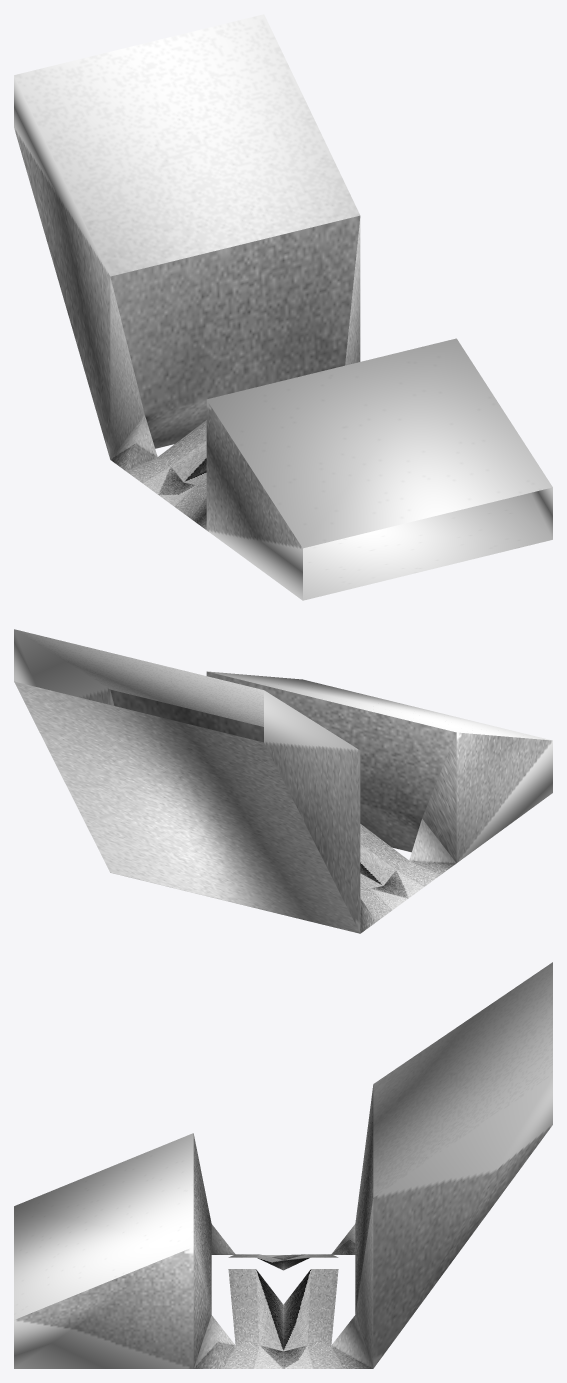
The model's file is Mod2D_SlopedPit_01.fbx.
The picture shows the model from 3 angles, top to bottom: view 1: azimuth 30°, elevation 25°; view 2: azimuth 150°, elevation 25°; view 3: azimuth 270°, elevation 25°; orthographic projection. The views are drawn at different scales.
Parts seen in each view (by area): view 1: Cube_015; view 2: Cube_015; view 3: Cube_015.
Boxes of the visible parts, x1=… form: Cube_015: x1=14, y1=14, x2=552, y2=600; Cube_015: x1=14, y1=629, x2=552, y2=933; Cube_015: x1=14, y1=962, x2=552, y2=1368.
Bounding box in the file's own units: 2 × 2.4 × 4.
